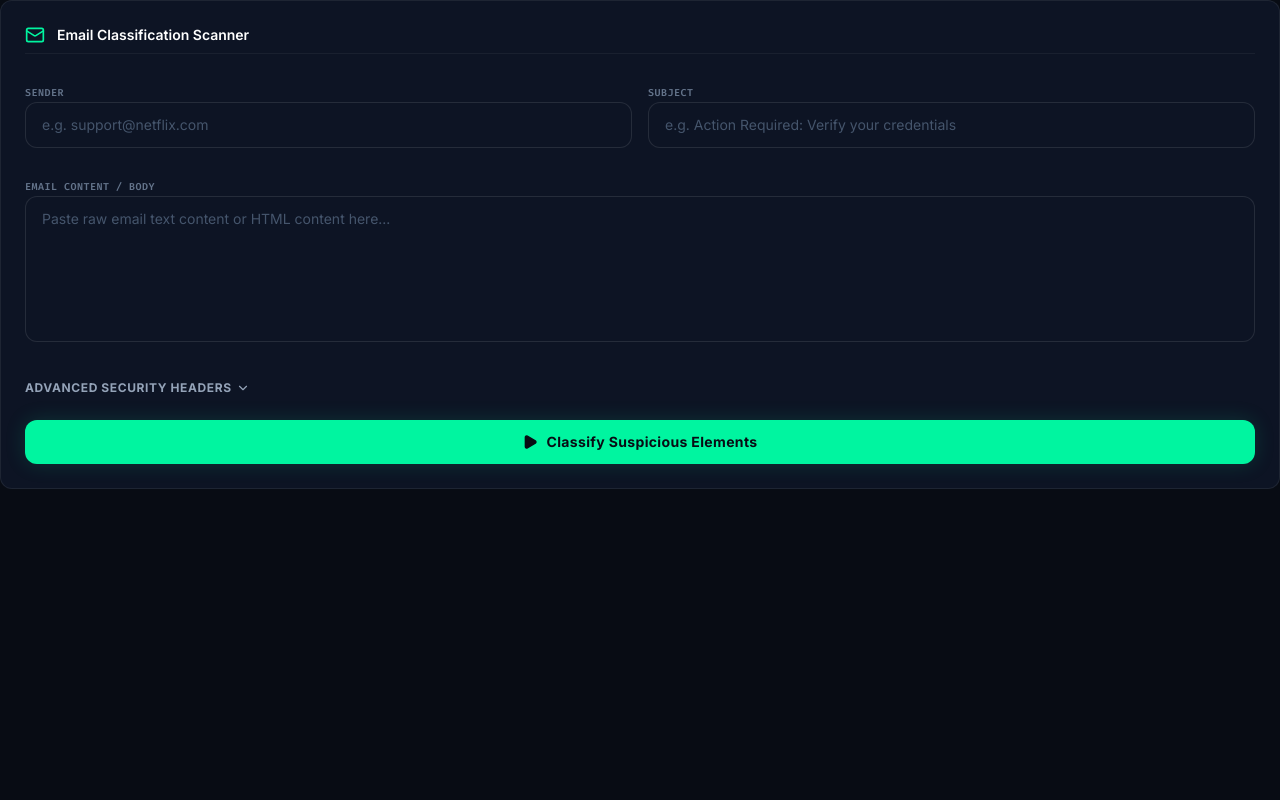
Test: EmailForm › should display validation error if required fields are missing
Click the button "Classify Suspicious Elements".
click(640, 442)  # box [25,420,1255,464]
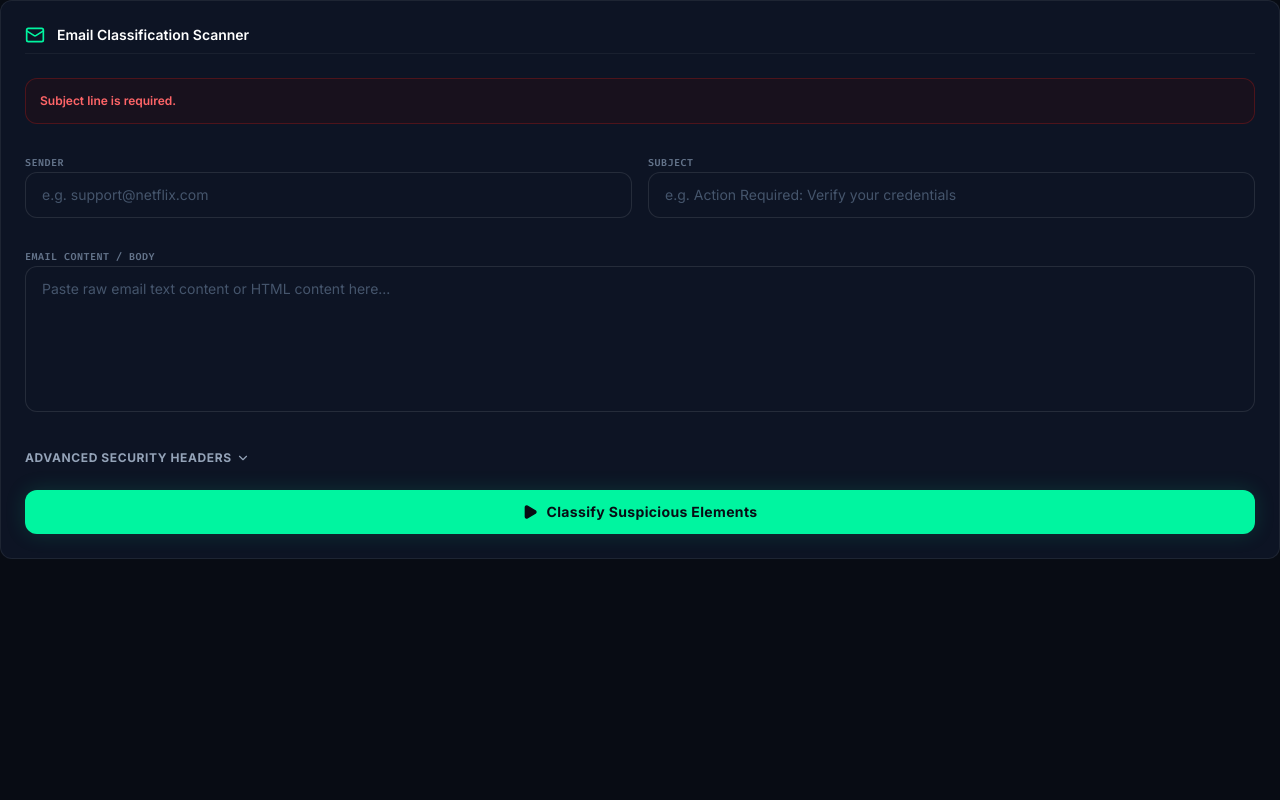
Expected: the text "Subject line is required." is shown, [25,78,1255,124]
